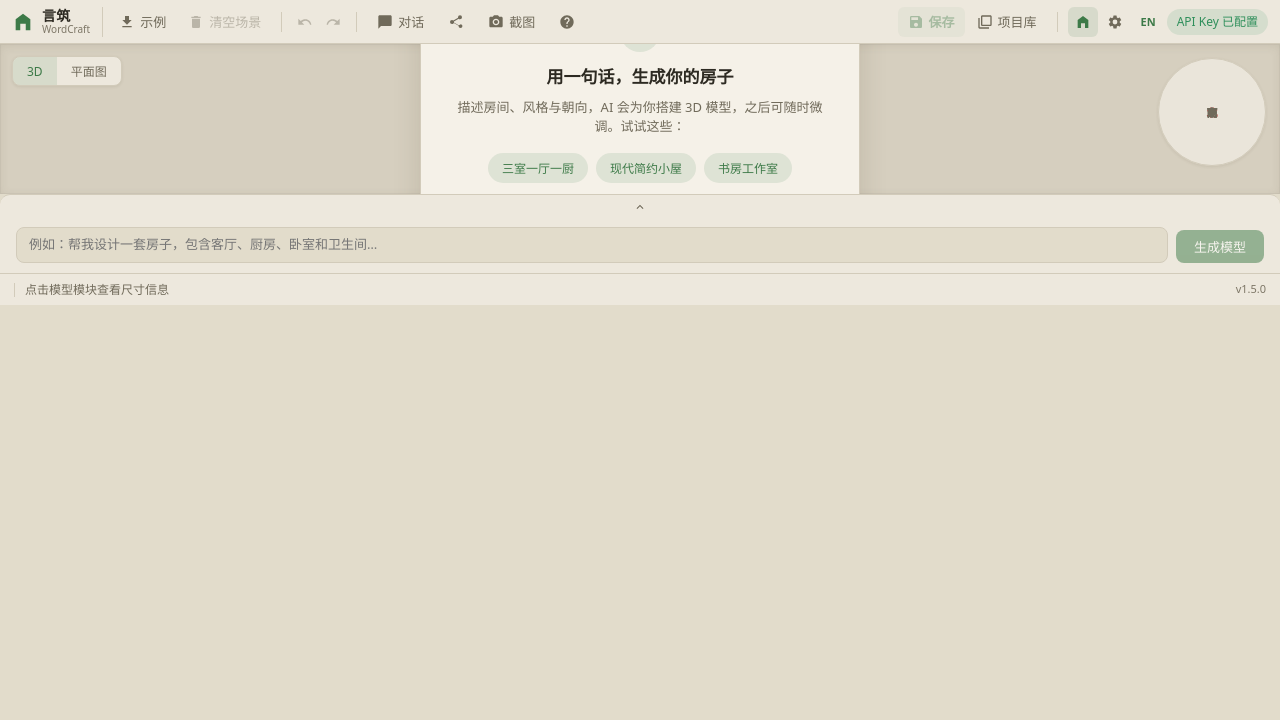
it: HomePage 对话交互 › 生成期间场景被编辑：确认框取消则保留用户编辑、丢弃生成结果（坑 70）
Type "设计一个小屋" into the text box with placeholder "例如：帮我设计一套房子，包含客厅、厨房、卧室和卫生间…" at {"x": 592, "y": 245}, box [16,227,1168,263]
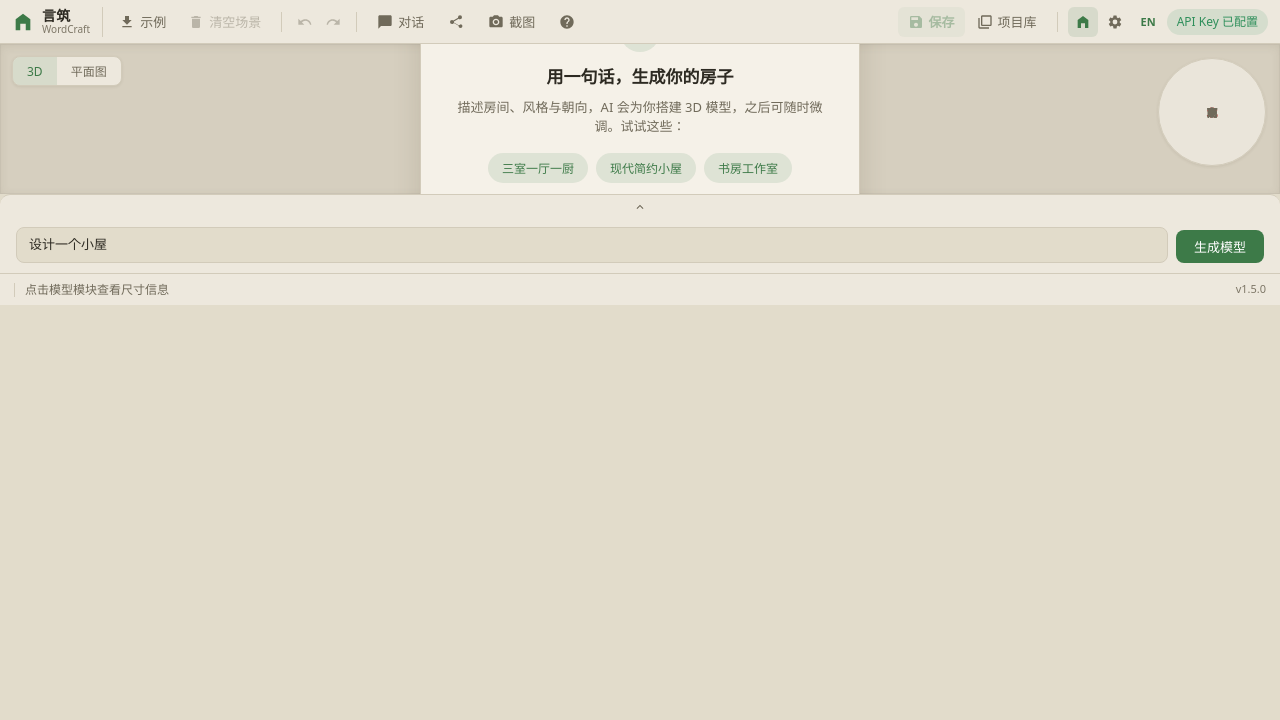
Click the button "生成模型" at {"x": 1220, "y": 246}, box [1176,230,1264,263]
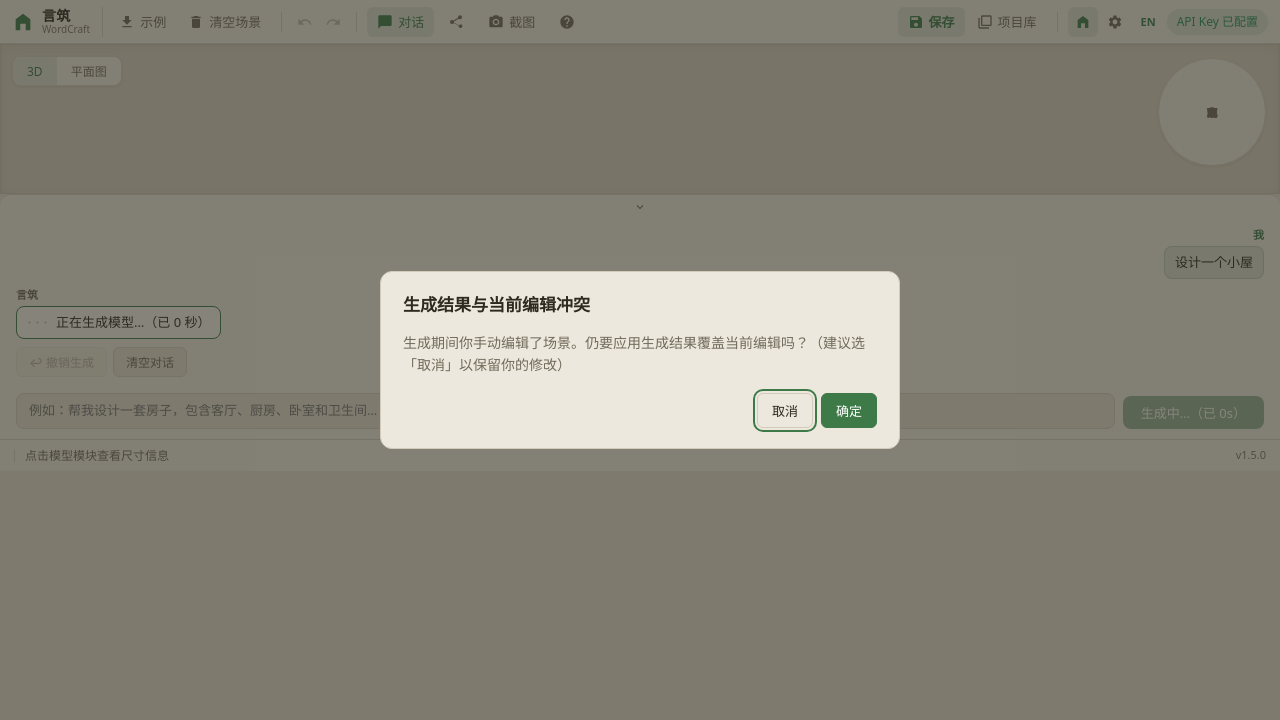
Expected: the heading "生成结果与当前编辑冲突" is shown, [403,293,590,316]
Click the button "取消" at {"x": 785, "y": 410}, box [757,393,813,428]
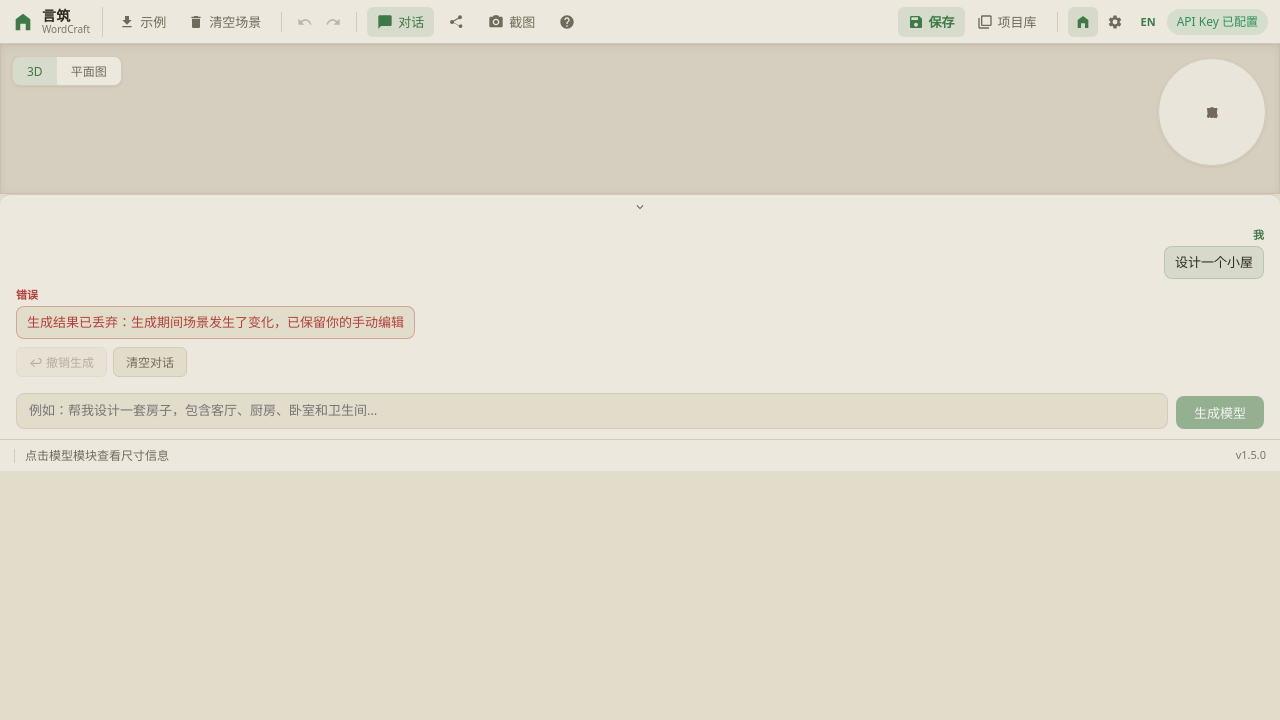
Expected: the text "生成结果已丢弃：生成期间场景发生了变化，已保留你的手动编辑" is shown, [16,306,415,339]
